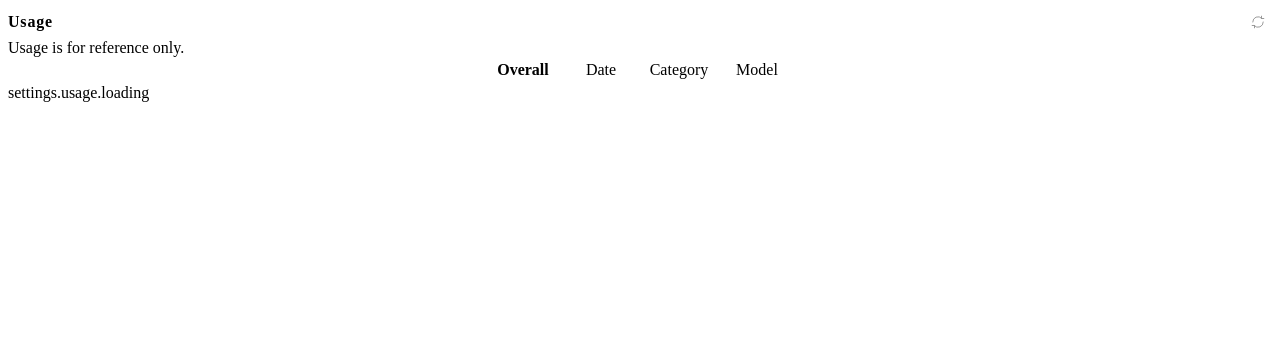
Scenario: UsageLedgerSection › shows a weekly date window by default and switches to a monthly window
This screenshot has width=1280, height=361.
Click the tab "Date". click: click(601, 70)
box: [563,61,639,79]
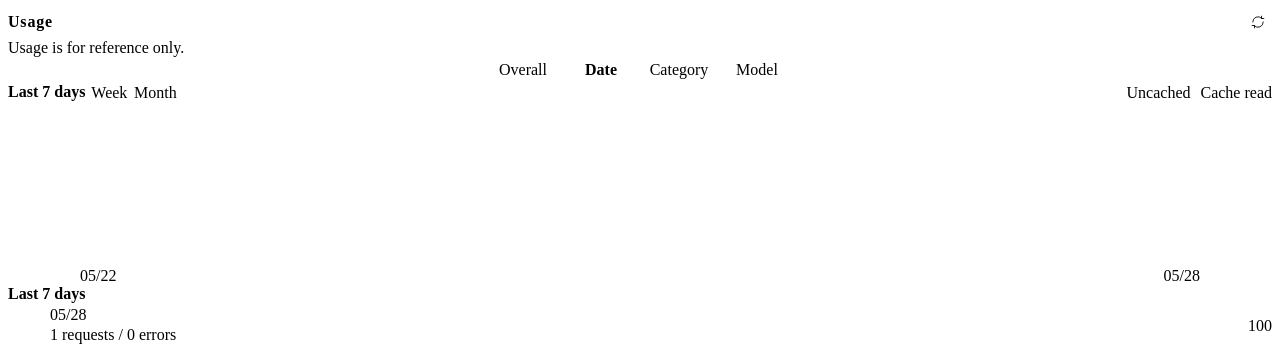
Expected: the number of elements titled "·" is 7
Expected: the text "Last 7 days" in the row of "Uncached" is shown, [8,83,85,100]
Click the button "Month". click: click(155, 93)
box: [133,83,177,102]
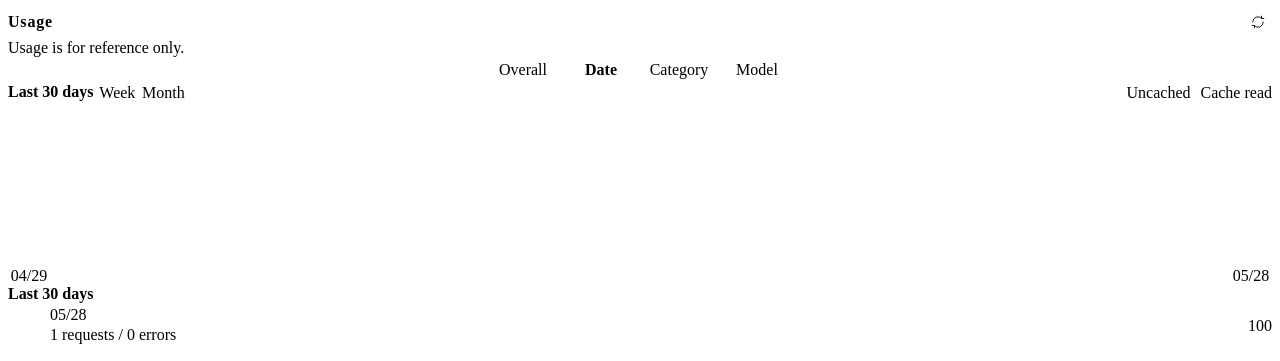
Expected: the number of elements titled "·" is 30
Expected: the text "Last 30 days" in the row of "Uncached" is shown, [8,83,93,100]
